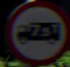Heavy Vehicles: (4, 1, 65, 63)
